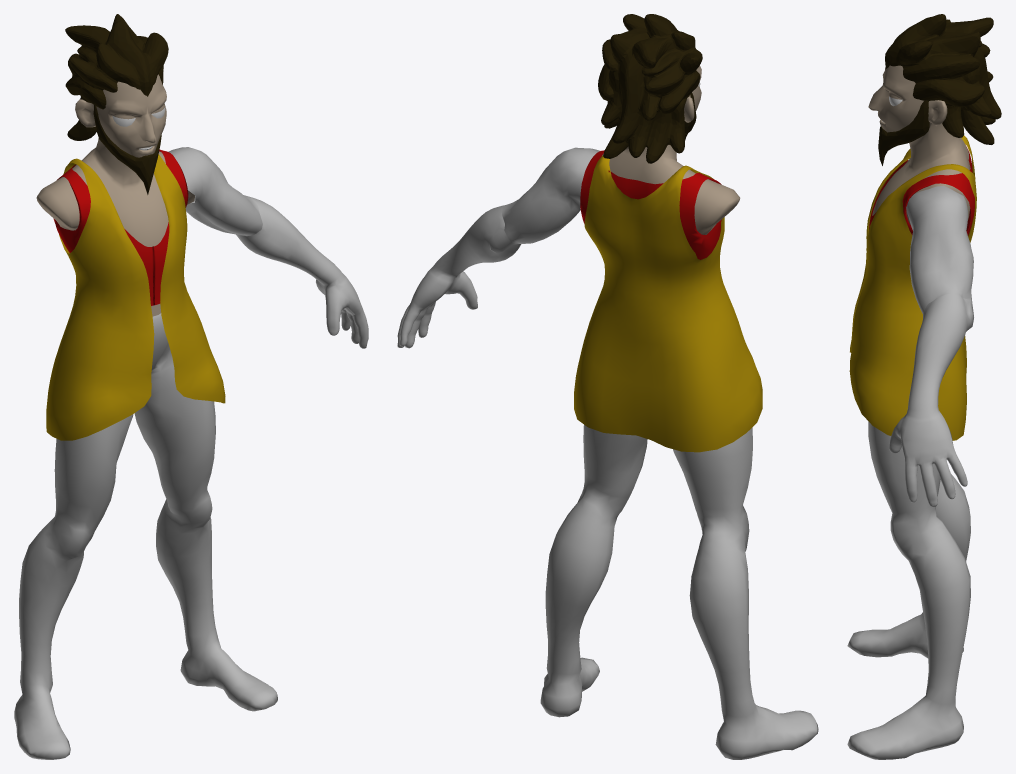
The model's file is Adam_retopo_mesh.fbx.
The picture shows the model from 3 angles, left to right: view 1: azimuth 30°, elevation 25°; view 2: azimuth 150°, elevation 25°; view 3: azimuth 270°, elevation 25°; orthographic projection. The views are drawn at different scales.
Visible parts, largest first — view 1: jambe, manteau, peau, bras, cheveux, t_shirt, barbe; view 2: manteau, jambe, cheveux, bras, peau, t_shirt; view 3: jambe, bras, manteau, cheveux, peau, t_shirt, barbe.
Boxes of the visible parts, bbox=[...] form: jambe: bbox=[14, 313, 277, 759]; manteau: bbox=[46, 154, 225, 440]; peau: bbox=[36, 74, 194, 316]; bras: bbox=[168, 147, 368, 348]; cheveux: bbox=[65, 14, 168, 140]; t_shirt: bbox=[53, 149, 188, 305]; barbe: bbox=[93, 105, 161, 194]; manteau: bbox=[574, 155, 762, 452]; jambe: bbox=[540, 425, 818, 759]; cheveux: bbox=[598, 14, 702, 163]; bras: bbox=[397, 147, 600, 348]; peau: bbox=[580, 65, 740, 234]; t_shirt: bbox=[580, 150, 721, 259]; jambe: bbox=[847, 421, 970, 759]; bras: bbox=[889, 185, 973, 507]; manteau: bbox=[849, 135, 976, 440]; cheveux: bbox=[885, 14, 1001, 144]; peau: bbox=[868, 65, 970, 224]; t_shirt: bbox=[869, 144, 974, 235]; barbe: bbox=[878, 100, 929, 165].
Bounding box in the file's own units: 102 × 184 × 37.33.
